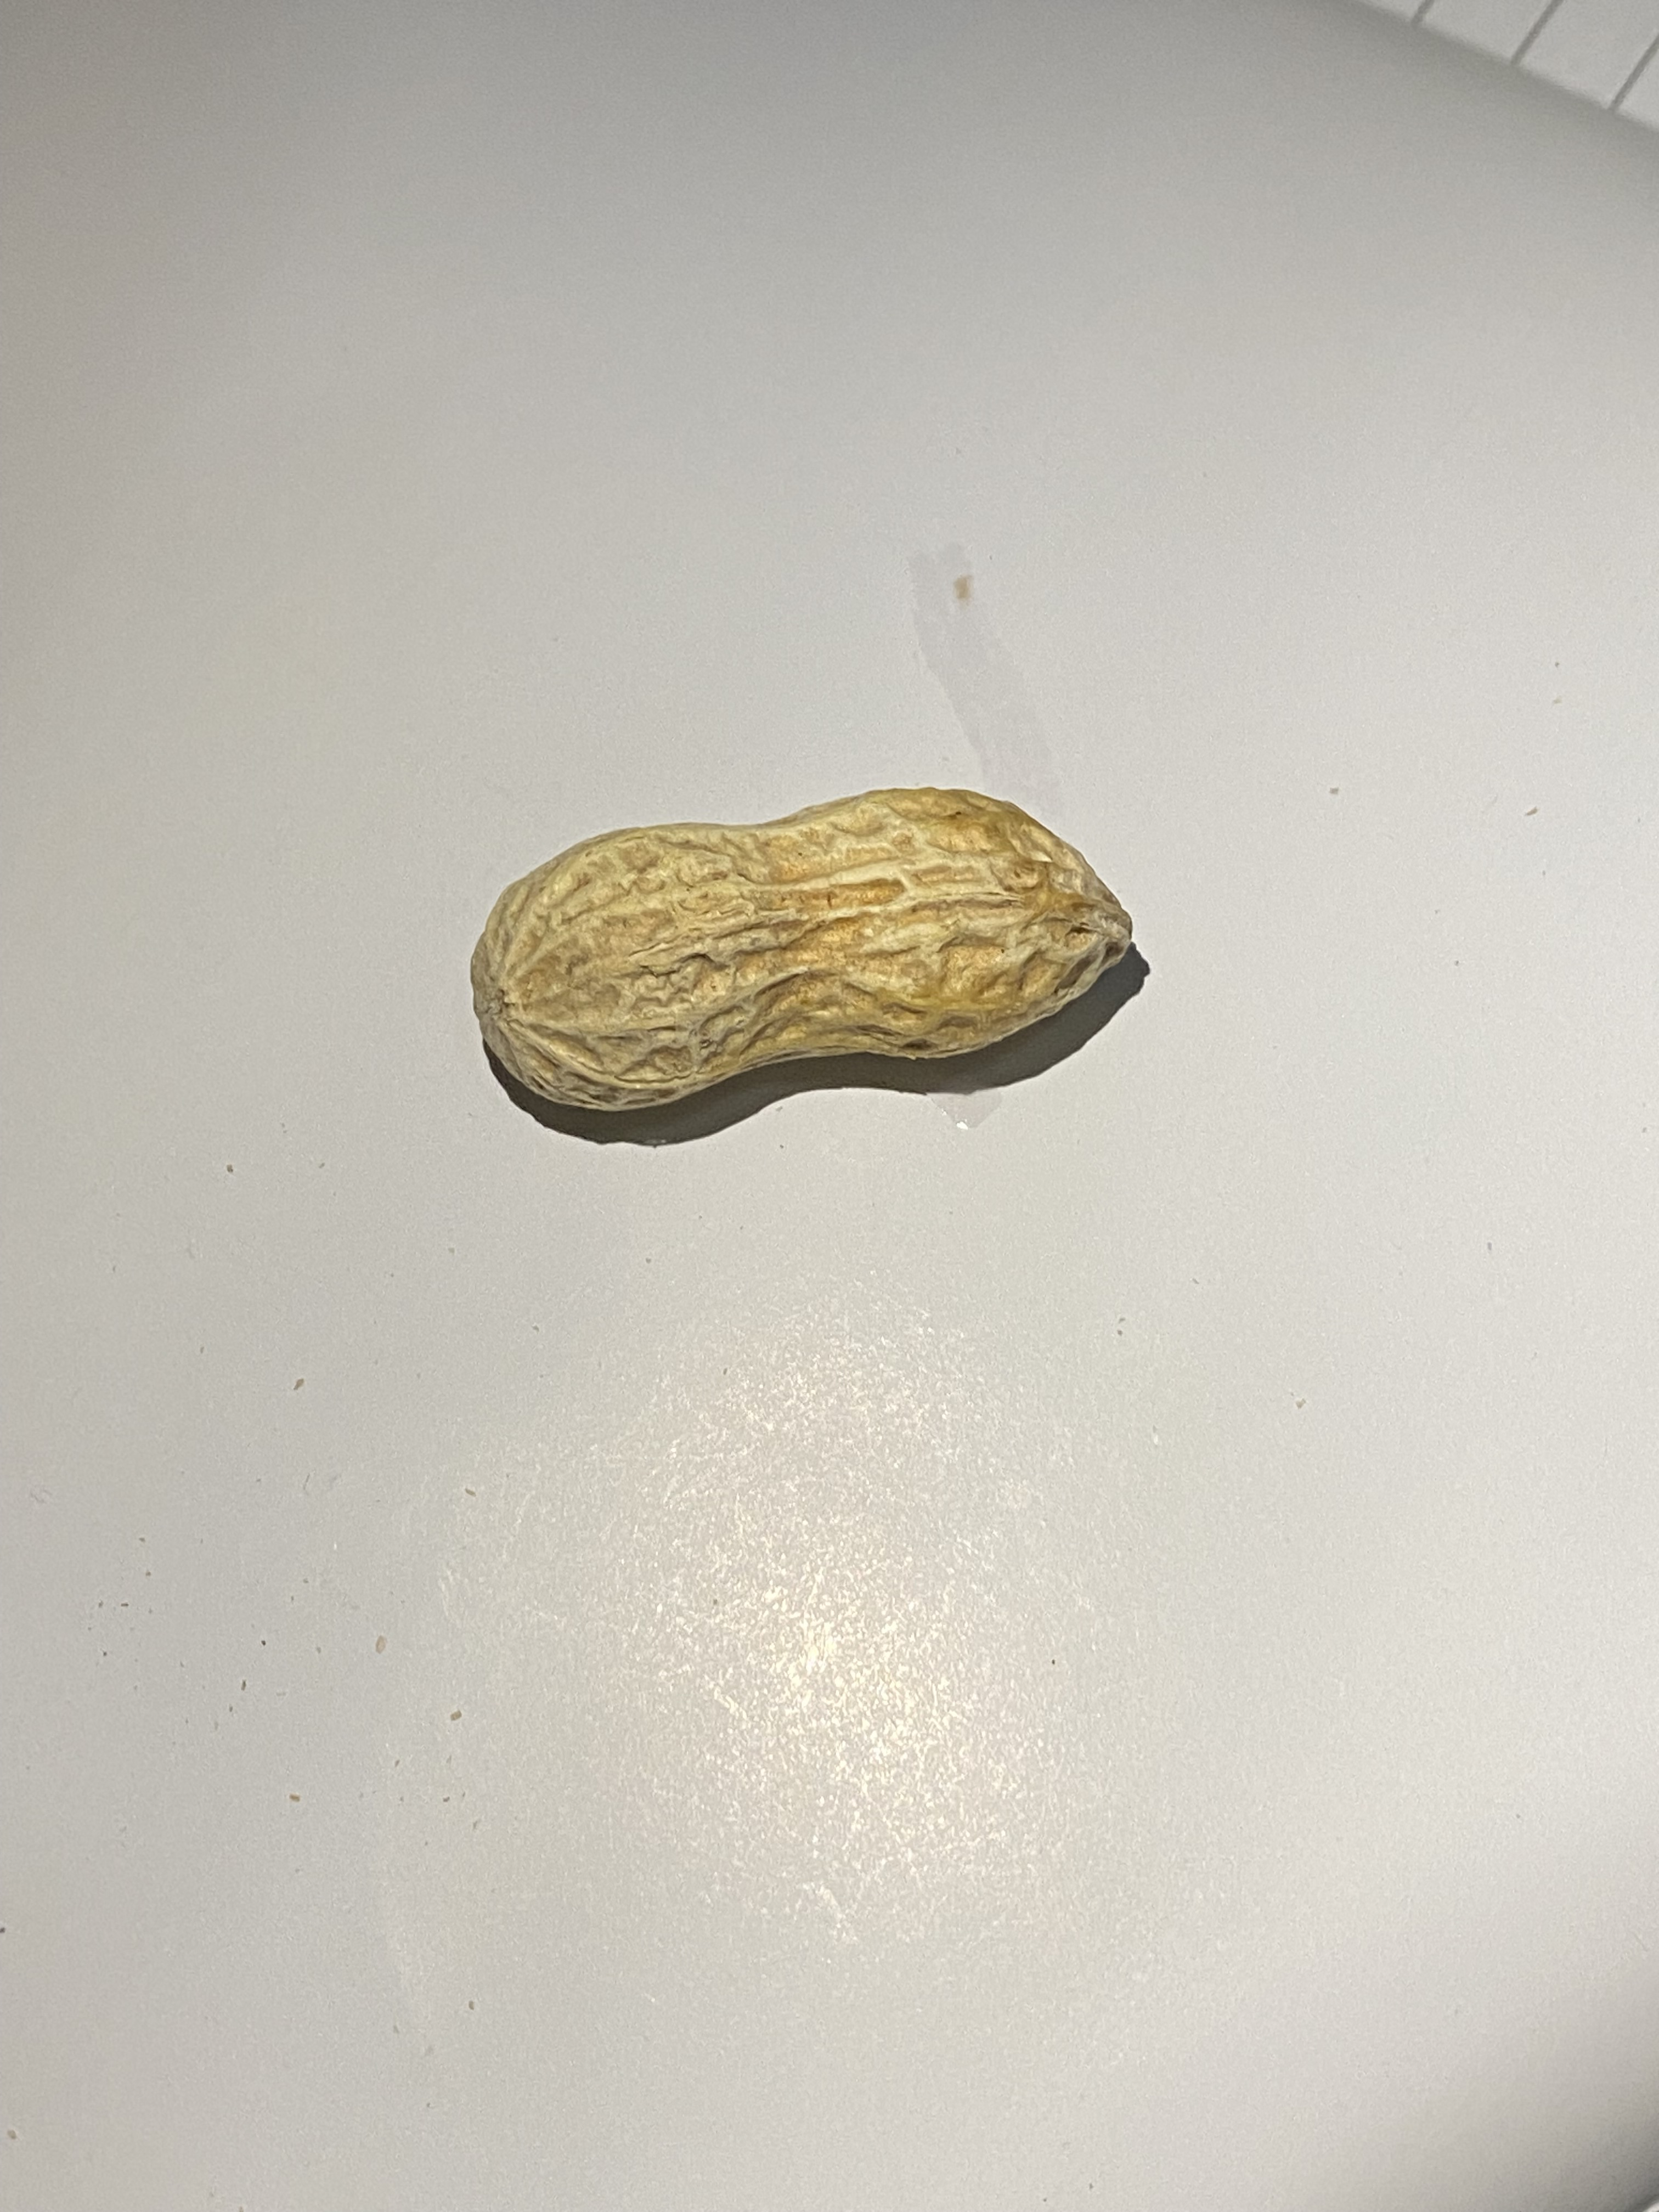kacang2: (437, 780, 1157, 1116)
